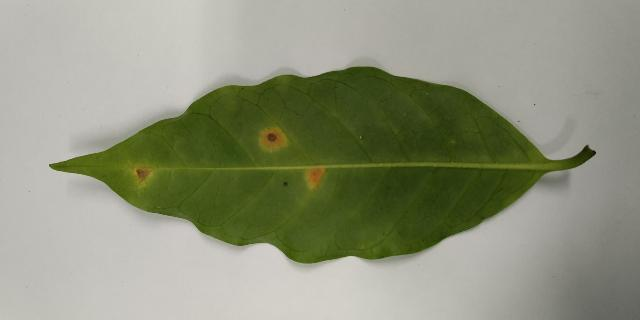miner: (302, 168, 327, 194), (259, 128, 287, 151), (132, 167, 154, 183)
